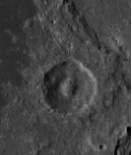crater: (32, 37, 111, 129)
